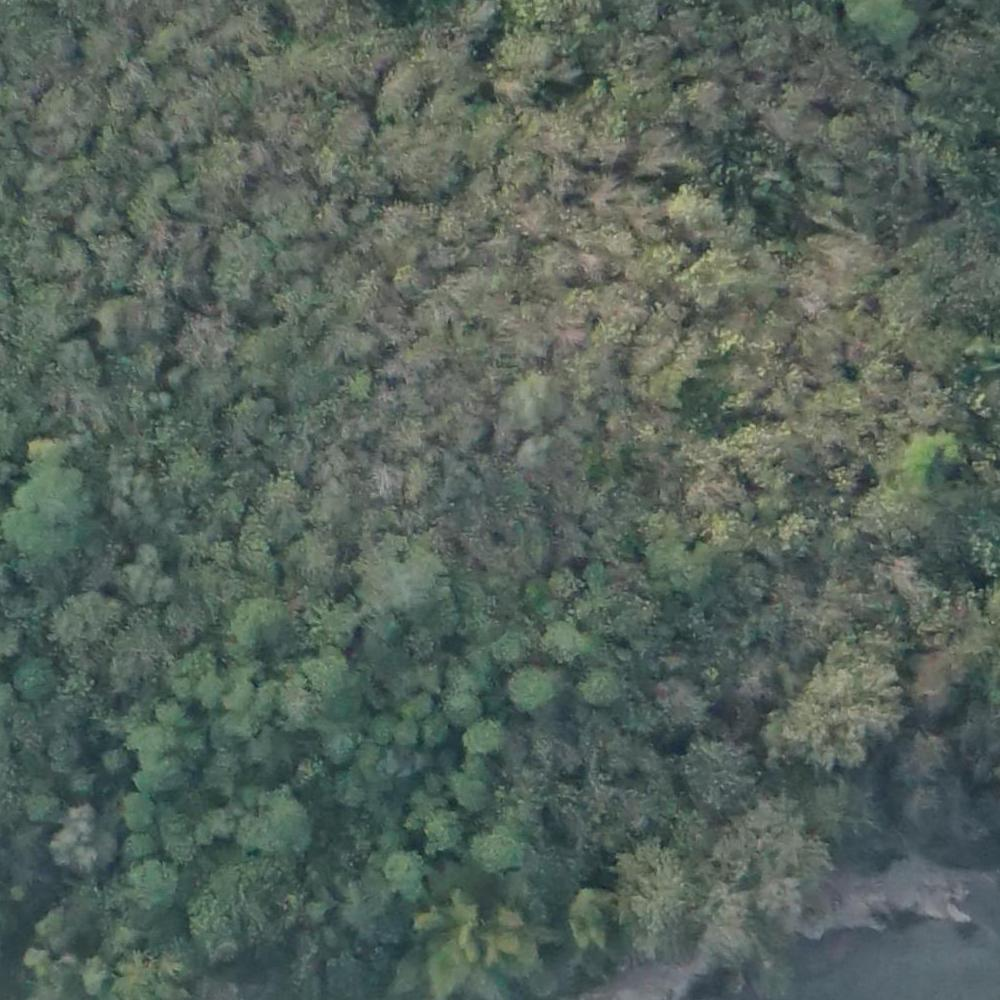tree: (5, 471, 99, 557), (360, 545, 449, 631), (679, 734, 756, 811), (55, 581, 125, 664), (352, 862, 424, 942), (816, 778, 897, 846), (288, 652, 362, 720), (848, 1, 919, 61), (903, 427, 964, 495), (49, 809, 113, 865), (494, 369, 562, 421), (664, 188, 729, 242), (515, 430, 577, 486), (123, 856, 181, 915), (252, 185, 314, 240), (263, 790, 316, 849), (238, 322, 291, 381), (93, 298, 149, 349), (566, 890, 616, 947), (128, 721, 183, 771), (288, 530, 337, 585), (376, 70, 432, 116), (228, 593, 282, 640), (508, 666, 557, 717), (658, 667, 704, 720), (308, 481, 364, 523), (122, 554, 170, 602), (585, 668, 636, 712), (752, 872, 799, 918), (901, 388, 951, 431), (481, 834, 526, 878), (773, 511, 815, 556), (381, 853, 428, 893), (426, 810, 468, 854), (327, 98, 365, 143), (16, 661, 57, 701), (502, 150, 546, 187), (492, 628, 532, 666), (473, 722, 507, 760), (454, 778, 491, 811), (445, 694, 480, 728), (47, 737, 85, 768), (118, 796, 153, 829), (119, 834, 152, 867)
